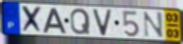5: (121, 9, 141, 38)
A: (42, 7, 68, 35)
N: (142, 10, 165, 39)
Q: (70, 8, 92, 36)
V: (92, 8, 114, 37)
X: (21, 5, 44, 35)
